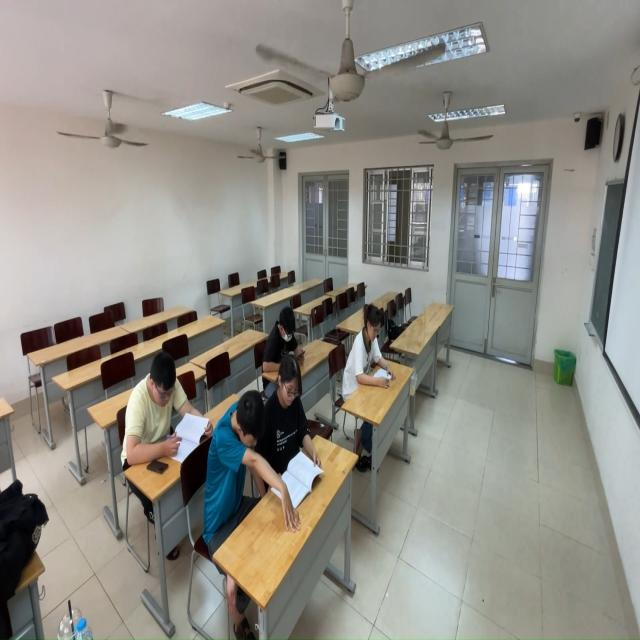read: (201, 386, 273, 543), (122, 349, 202, 473), (269, 353, 331, 512), (342, 301, 403, 404), (262, 302, 313, 371)
